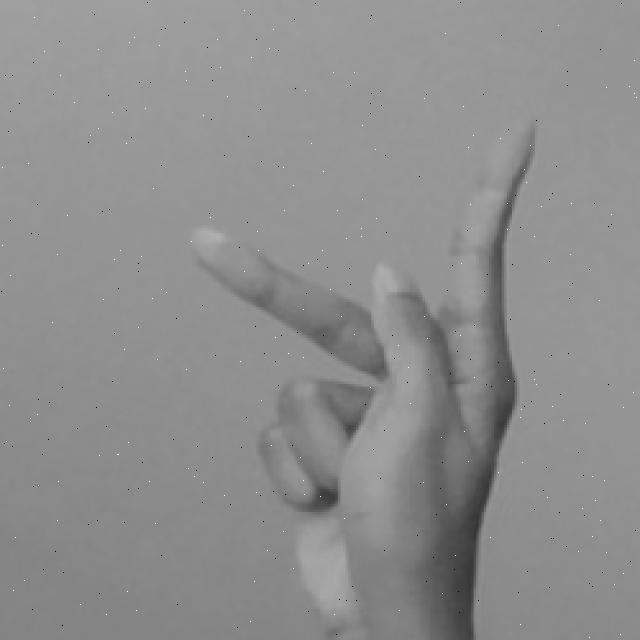K: (181, 107, 535, 640)
